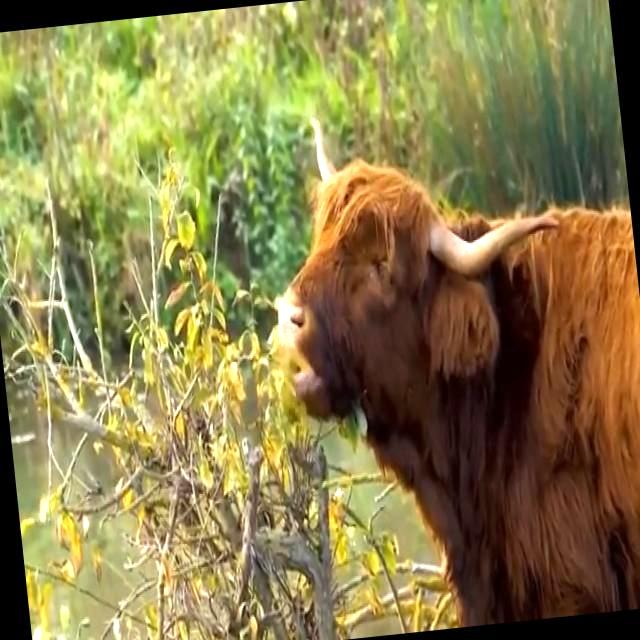COW: (276, 162, 640, 624)
